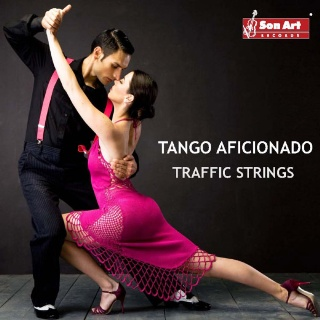without_mask: (107, 69, 158, 120), (90, 27, 134, 85)
